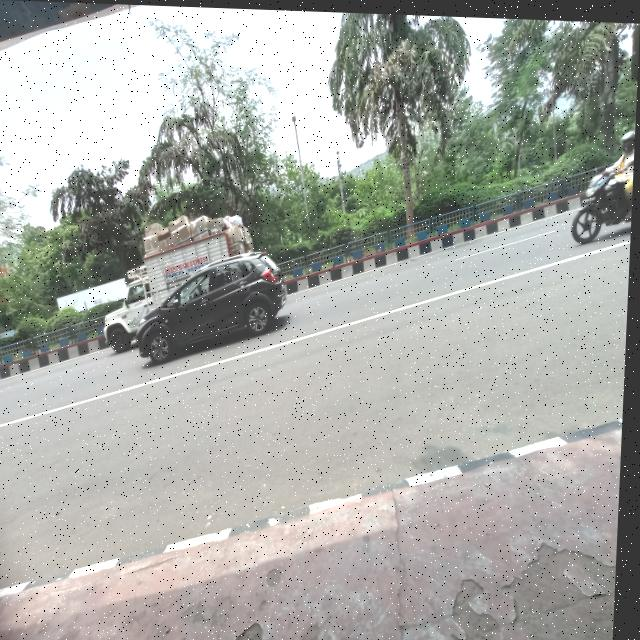bike: (561, 158, 632, 266)
car: (122, 233, 306, 368)
